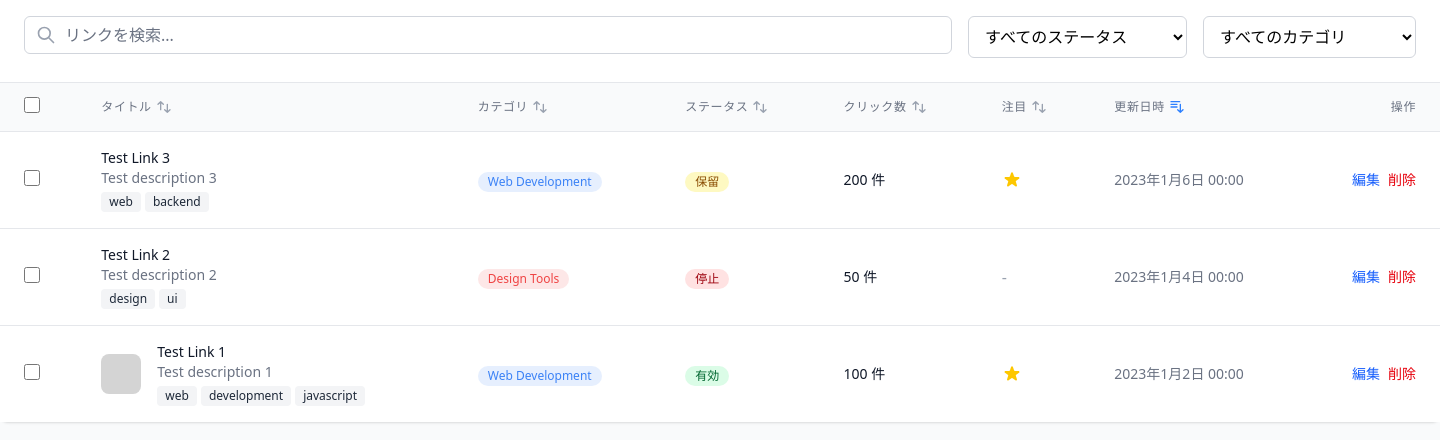
LinkManagementTable › filters links by status
The image size is (1440, 440).
Select "有効" in the 1st dropdown showing "すべてのステータス" at (1078,37), box [968,16,1187,58]
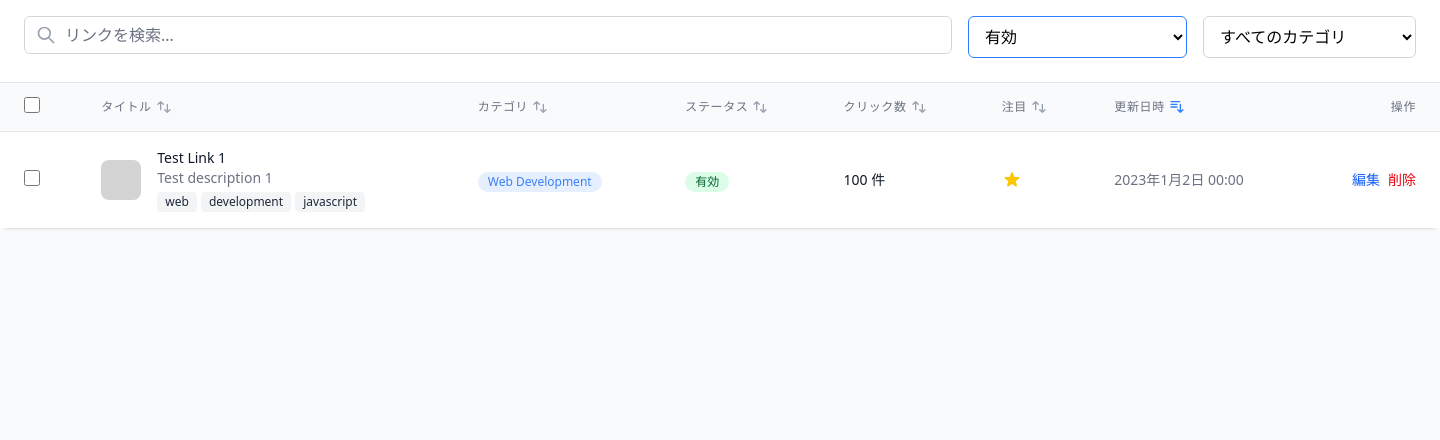
Expected: the text "Test Link 1" is shown, [157,148,226,167]
Expected: the text "Test Link 2" is gone
Expected: the text "Test Link 3" is gone
